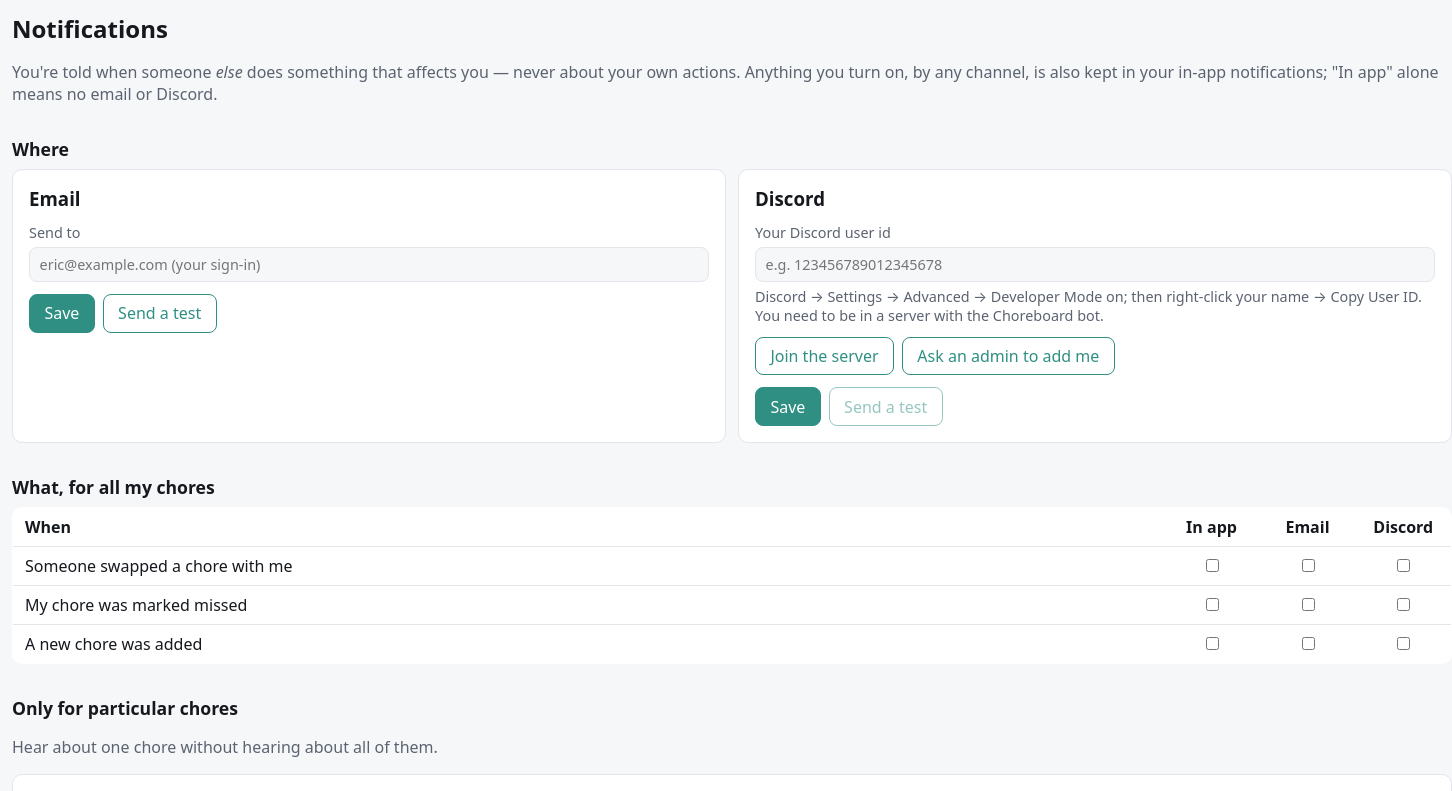
Scenario: joining the Discord server › shows the invite link when an admin set one, and asks the admins
Click the button "Ask an admin to add me". click: (1008, 356)
box: [902, 337, 1115, 375]
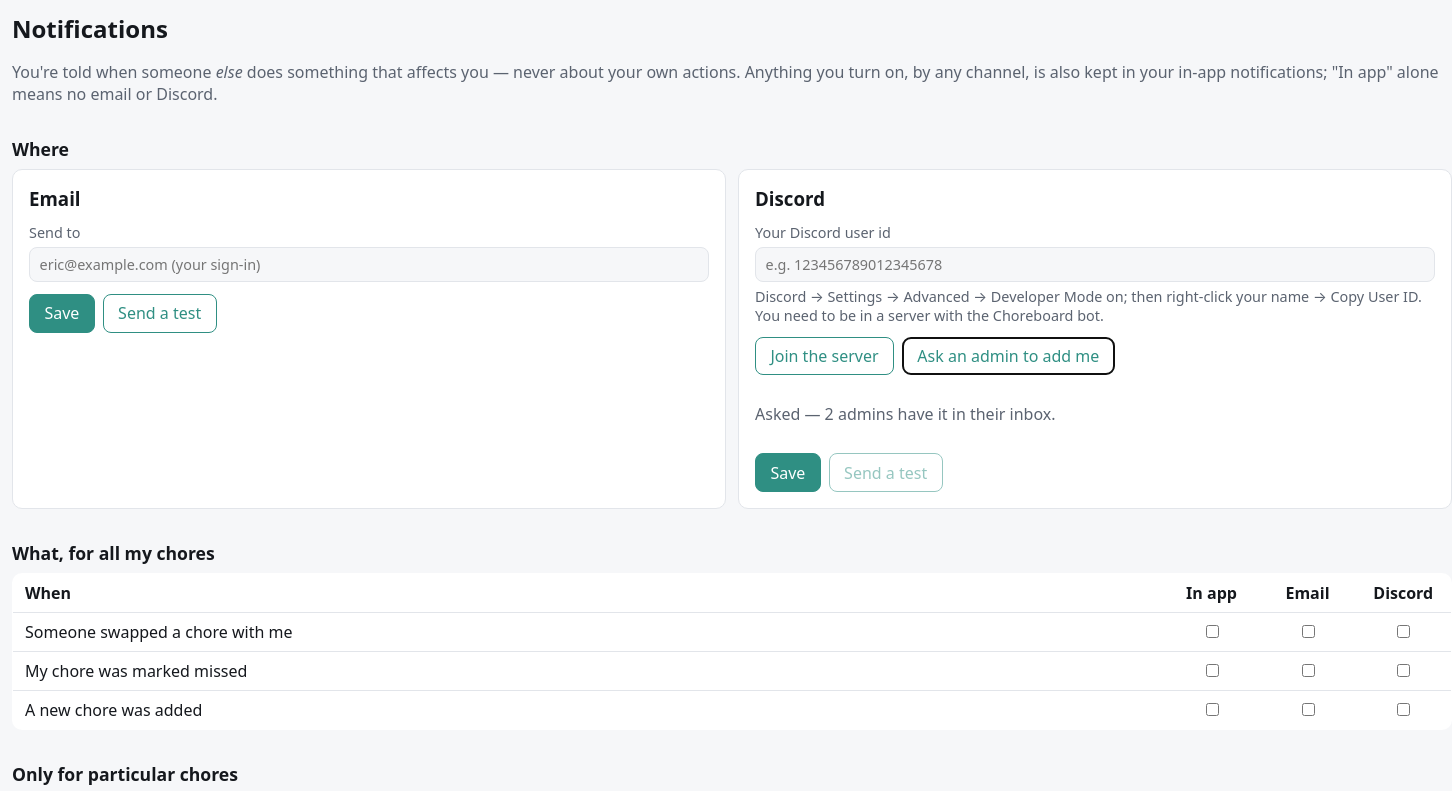
Check: the message shows "2 admins have it in their inbox", box [755, 403, 1056, 425]
